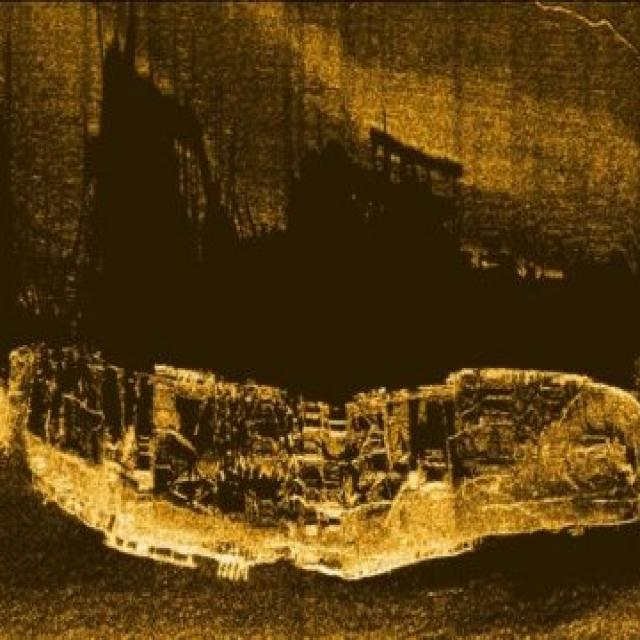ship: (0, 341, 638, 586)
